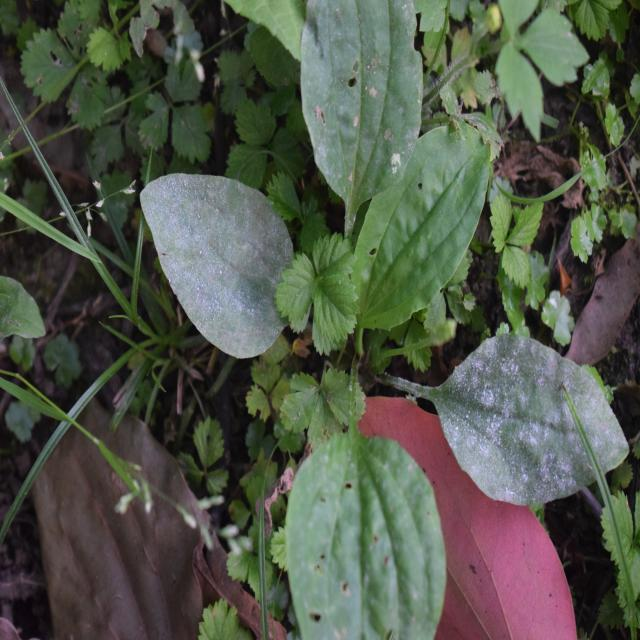plantain: (178, 22, 551, 589)
